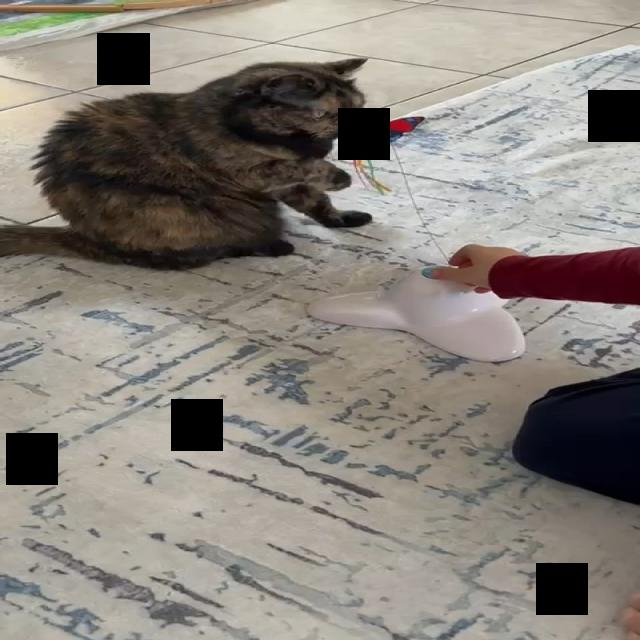authorized: (0, 56, 373, 271)
